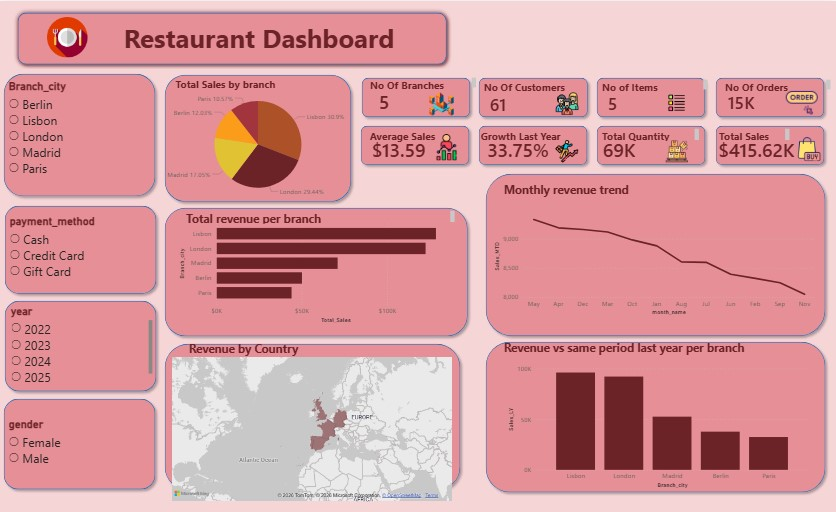

What the dashboard file says about the page in this screenshot:
{"tool":"powerbi","page":{"name":"Branches and sale performance","canvas":[1550,950],"ordinal":1},"visuals":[{"type":"shape","box":[1.7,547,298.3,185.7],"z":0,"group":"g2"},{"type":"group","id":"g1","title":"Group 2","box":[0,729.3,298.3,185.7],"z":0,"group":"g8"},{"type":"shape","box":[25.3,13.3,811.7,113.3],"z":1000},{"type":"group","id":"g2","title":"Group 5","box":[1.7,547,298.3,185.7],"z":1000,"group":"g8"},{"type":"shape","box":[662,133.1,218.4,90.8],"z":2000},{"type":"group","id":"g3","title":"Group 6","box":[1.7,371.5,298.3,180.6],"z":2000,"group":"g8"},{"type":"textbox","box":[225.3,30,811.7,150],"z":3000},{"type":"group","id":"g4","title":"Group 7","box":[0,126.7,298.3,244.8],"z":3000,"group":"g8"},{"type":"shape","box":[879.4,133.1,219.4,90.8],"z":4000},{"type":"image","box":[25.3,30,200,75],"z":5000},{"type":"shape","box":[1098.9,133.1,218.4,90.8],"z":6000},{"type":"shape","box":[1318.3,133.1,218.4,90.8],"z":7000},{"type":"group","id":"g5","title":"Group 3","box":[298.3,623.3,565,308.3],"z":8000},{"type":"cardVisual","fields":{"Data":["Dax_Measures.#branches"]},"box":[674.3,154.3,185.7,64.3],"z":9000},{"type":"listSlicer","fields":{"Values":["Dim_Dates.year"]},"box":[16.7,562.8,273.3,155.3],"z":10000,"group":"g2"},{"type":"textbox","box":[680.7,137.3,207.2,30.8],"z":11000},{"type":"textbox","box":[892.9,140,218.6,50],"z":12000},{"type":"group","id":"g6","title":"Group 4","box":[891.7,621.7,646.7,296.7],"z":13000},{"type":"cardVisual","fields":{"Data":["Dax_Measures.#Customers"]},"box":[880,157.1,217.1,64.3],"z":14000},{"type":"cardVisual","fields":{"Data":["Dax_Measures.#items"]},"box":[1098.2,133.1,218.6,106.9],"z":15000},{"type":"textbox","box":[1111.5,140.2,206.3,30.5],"z":16000},{"type":"textbox","box":[1338.7,140.2,206.5,30.9],"z":17000},{"type":"cardVisual","fields":{"Data":["Dax_Measures.#Orders"]},"box":[1320,151.4,218.6,67.1],"z":18000},{"type":"image","box":[770.7,165.8,97.6,47.5],"z":19000},{"type":"image","box":[1437,159.9,98.9,58.2],"z":20000},{"type":"image","box":[1019.3,168.2,66.4,42.7],"z":21000},{"type":"image","box":[1206.7,173,95,33.2],"z":22000},{"type":"shape","box":[880,222.4,218.6,90.2],"z":23000},{"type":"shape","box":[1098.7,222.8,218.6,90.2],"z":24000},{"type":"shape","box":[1318.6,222.4,218.6,90.2],"z":25000},{"type":"shape","box":[661.4,222.8,218.6,90.2],"z":26000},{"type":"cardVisual","fields":{"Data":["Dax_Measures.Avgerage_Sales","Dax_Measures.Growth_LY_%","Dax_Measures.Total_Quantity","Dax_Measures.Total_Sales"]},"box":[661.4,240,882.9,65.7],"z":27000},{"type":"textbox","box":[680.8,231.5,183.1,41.7],"z":28000},{"type":"textbox","box":[887.1,231.4,191.4,61.4],"z":29000},{"type":"textbox","box":[1111.7,231.7,190,33.3],"z":30000},{"type":"shape","box":[891.7,621.7,646.7,296.7],"z":30000,"group":"g6"},{"type":"textbox","box":[1327.7,231.1,140.5,33.2],"z":31000},{"type":"clusteredColumnChart","fields":{"Y":["Dax_Measures.Sales_LY"],"Category":["Dim_Branches.Branch_city"]},"box":[936.7,665.8,566.9,240.5],"z":31000,"group":"g6"},{"type":"image","box":[1215.8,257.3,76.8,41.6],"z":32000},{"type":"image","box":[1460.4,251.3,75.5,45.1],"z":33000},{"type":"image","box":[1019.3,257.3,66.4,41.6],"z":34000},{"type":"shape","box":[298.3,624.4,565,289.2],"z":34000,"group":"g5"},{"type":"shape","box":[298.6,127.1,362.9,252.9],"z":35000},{"type":"textbox","box":[928.5,621.7,609.8,44.1],"z":35000,"group":"g6"},{"type":"filledMap","fields":{"Category":["Dim_Branches.country","Dim_Branches.Branch_city"]},"box":[314.3,653.3,529.1,278.3],"z":35000,"group":"g5"},{"type":"image","box":[784.3,245.7,87.1,48.6],"z":36000},{"type":"shape","box":[298.6,374.3,578.6,255.7],"z":37000},{"type":"clusteredBarChart","fields":{"Y":["Dax_Measures.Total_Sales"],"Category":["Dim_Branches.Branch_city"]},"box":[328.6,397.1,540,204.3],"z":38000},{"type":"pieChart","fields":{"Category":["Dim_Branches.Branch_city"],"Y":["Dax_Measures.Total_Sales"]},"box":[298.6,152.3,362.9,223.5],"z":39000,"group":"g7"},{"type":"textbox","box":[340,384,508,34],"z":39000},{"type":"textbox","box":[317.4,134.3,344,71.8],"z":40000,"group":"g7"},{"type":"shape","box":[891.7,311.7,646.7,318.3],"z":40000},{"type":"textbox","box":[345.9,623.3,488.5,47.7],"z":40000,"group":"g5"},{"type":"lineChart","fields":{"Category":["Dim_Dates.month_name"],"Y":["Dax_Measures.Sales_MTD"]},"box":[912,384,604,204],"z":41000},{"type":"textbox","box":[930,330,508,44],"z":42000},{"type":"group","id":"g7","title":"Group 1","box":[298.6,134.3,362.9,241.4],"z":43000},{"type":"shape","box":[0,126.7,298.3,244.8],"z":44000,"group":"g4"},{"type":"listSlicer","fields":{"Values":["Dim_Branches.Branch_city"]},"box":[13.3,147,273.3,199.2],"z":45000,"group":"g4"},{"type":"shape","box":[1.7,371.5,298.3,180.6],"z":46000,"group":"g3"},{"type":"shape","box":[0,729.3,298.3,185.7],"z":47000,"group":"g1"},{"type":"listSlicer","fields":{"Values":["Fact_Order.payment_method"]},"box":[15,396.8,273.3,133.4],"z":48000,"group":"g3"},{"type":"listSlicer","fields":{"Values":["Dim_Customer.gender"]},"box":[13.3,773.8,273.3,104.7],"z":49000,"group":"g1"},{"type":"group","id":"g8","title":"Group 8","box":[0,126.7,300,788.3],"z":49005}]}

Visuals, with their boxes in screenshot pixels (x1, y1, x2, y2), scaled from the page's 1550x950 canvas onto the 836x512 screenshot:
shape: locate(1, 295, 162, 395)
"Group 2" group: locate(0, 393, 161, 493)
shape: locate(14, 7, 451, 68)
"Group 5" group: locate(1, 295, 162, 395)
shape: locate(357, 72, 475, 121)
"Group 6" group: locate(1, 200, 162, 298)
textbox: locate(122, 16, 559, 97)
"Group 7" group: locate(0, 68, 161, 200)
shape: locate(474, 72, 593, 121)
image: locate(14, 16, 122, 57)
shape: locate(593, 72, 710, 121)
shape: locate(711, 72, 829, 121)
"Group 3" group: locate(161, 336, 466, 502)
cardVisual - Dax_Measures.#branches: locate(364, 83, 464, 118)
listSlicer - Dim_Dates.year: locate(9, 303, 156, 387)
textbox: locate(367, 74, 479, 91)
textbox: locate(482, 75, 599, 102)
"Group 4" group: locate(481, 335, 830, 495)
cardVisual - Dax_Measures.#Customers: locate(475, 85, 592, 119)
cardVisual - Dax_Measures.#items: locate(592, 72, 710, 129)
textbox: locate(599, 76, 711, 92)
textbox: locate(722, 76, 833, 92)
cardVisual - Dax_Measures.#Orders: locate(712, 82, 830, 118)
image: locate(416, 89, 468, 115)
image: locate(775, 86, 828, 118)
image: locate(550, 91, 586, 114)
image: locate(651, 93, 702, 111)
shape: locate(475, 120, 593, 168)
shape: locate(593, 120, 710, 169)
shape: locate(711, 120, 829, 168)
shape: locate(357, 120, 475, 169)
cardVisual - Dax_Measures.Avgerage_Sales x Dax_Measures.Growth_LY_%: locate(357, 129, 833, 165)
textbox: locate(367, 125, 466, 147)
textbox: locate(478, 125, 582, 158)
textbox: locate(600, 125, 702, 143)
shape: locate(481, 335, 830, 495)
textbox: locate(716, 125, 792, 142)
clusteredColumnChart - Dax_Measures.Sales_LY x Dim_Branches.Branch_city: locate(505, 359, 811, 488)
image: locate(656, 139, 697, 161)
image: locate(788, 135, 828, 160)
image: locate(550, 139, 586, 161)
shape: locate(161, 337, 466, 492)
shape: locate(161, 69, 357, 205)
textbox: locate(501, 335, 830, 359)
filledMap - Dim_Branches.country x Dim_Branches.Branch_city: locate(170, 352, 455, 502)
image: locate(423, 132, 470, 159)
shape: locate(161, 202, 473, 340)
clusteredBarChart - Dax_Measures.Total_Sales x Dim_Branches.Branch_city: locate(177, 214, 468, 324)
pieChart - Dim_Branches.Branch_city x Dax_Measures.Total_Sales: locate(161, 82, 357, 203)
textbox: locate(183, 207, 457, 225)
textbox: locate(171, 72, 357, 111)
shape: locate(481, 168, 830, 340)
textbox: locate(187, 336, 450, 362)
lineChart - Dim_Dates.month_name x Dax_Measures.Sales_MTD: locate(492, 207, 818, 317)
textbox: locate(502, 178, 776, 202)
"Group 1" group: locate(161, 72, 357, 202)
shape: locate(0, 68, 161, 200)
listSlicer - Dim_Branches.Branch_city: locate(7, 79, 155, 187)
shape: locate(1, 200, 162, 298)
shape: locate(0, 393, 161, 493)
listSlicer - Fact_Order.payment_method: locate(8, 214, 155, 286)
listSlicer - Dim_Customer.gender: locate(7, 417, 155, 473)
"Group 8" group: locate(0, 68, 162, 493)
